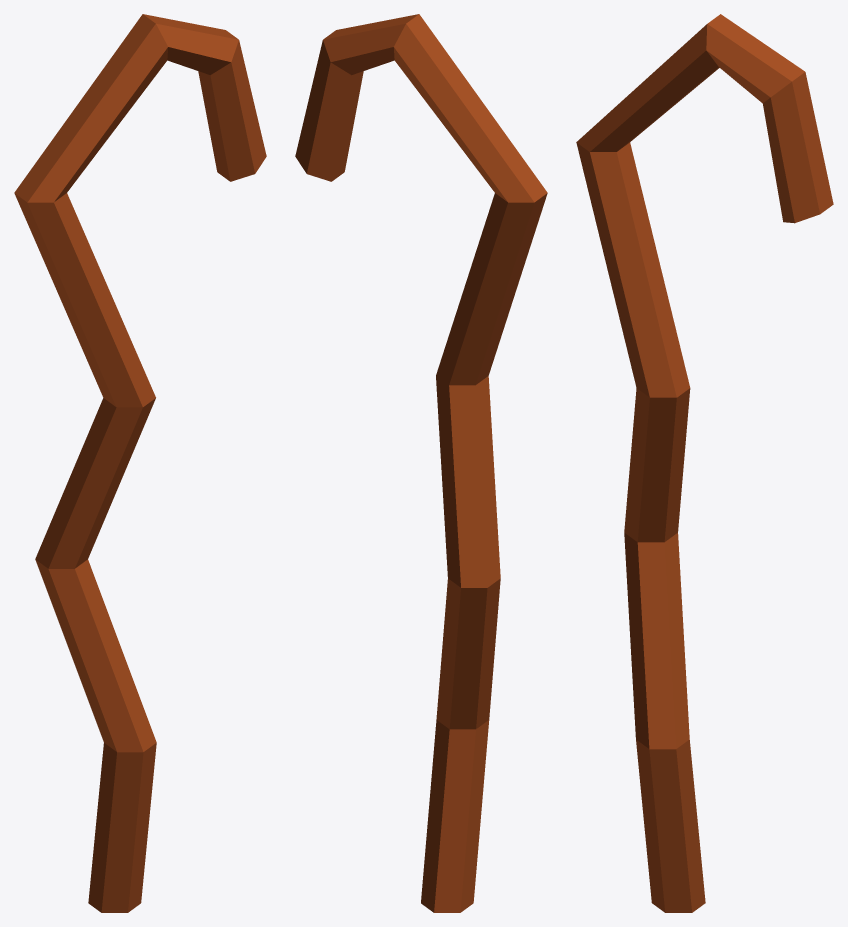
File: witch_staff.fbx
3 views of the same model, side by side, from view 1: azimuth 30°, elevation 25°; view 2: azimuth 150°, elevation 25°; view 3: azimuth 330°, elevation 25° (orthographic).
Parts seen in each view (by area): view 1: staff; view 2: staff; view 3: staff.
Boxes of the visible parts, box(x1,y1,x2,y2) form: staff: box(14, 14, 266, 912); staff: box(295, 14, 547, 912); staff: box(576, 14, 833, 912).
Bounding box in the file's own units: 52.75 × 185 × 21.01.
